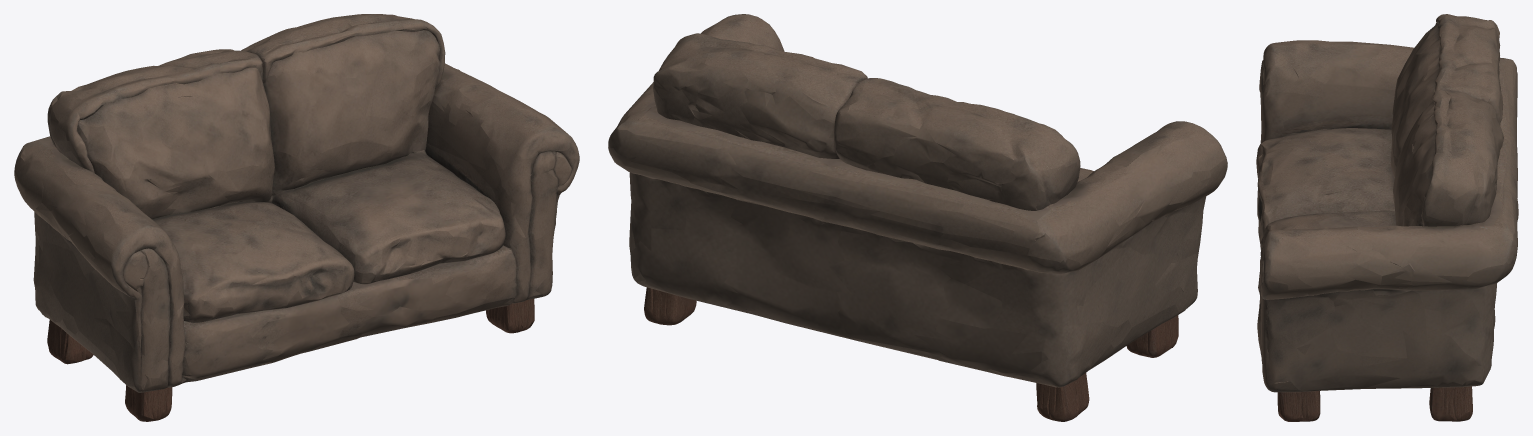
Rendered from divano.glb.
The picture shows the model from 3 angles, left to right: view 1: azimuth 30°, elevation 25°; view 2: azimuth 150°, elevation 25°; view 3: azimuth 270°, elevation 25°; orthographic projection. The views are drawn at different scales.
Visible parts, largest first — view 1: Mesh_0; view 2: Mesh_0; view 3: Mesh_0.
Boxes of the visible parts, x1,y1,x2,y2 form: Mesh_0: (14,14,579,421); Mesh_0: (608,14,1227,421); Mesh_0: (1256,14,1518,421).
Size of the model in its own units: 1.9 by 1.02 by 0.9667.
Materials: 1 (1 with a texture image).
